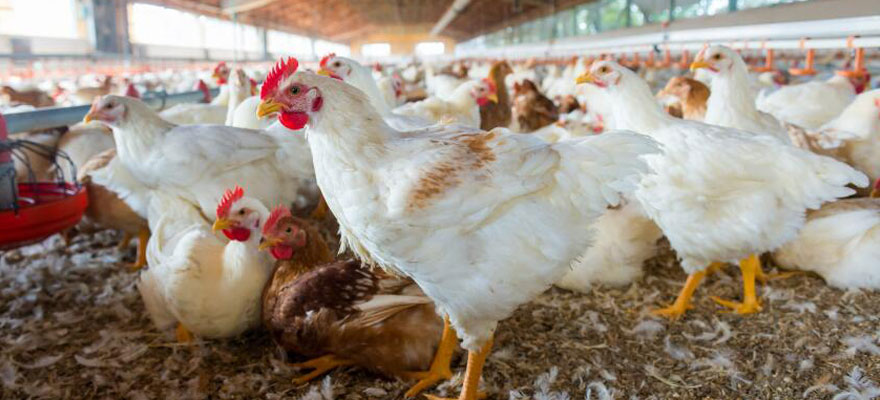Healthy: (245, 44, 676, 400), (204, 177, 273, 250), (76, 78, 148, 146), (683, 30, 755, 97)
